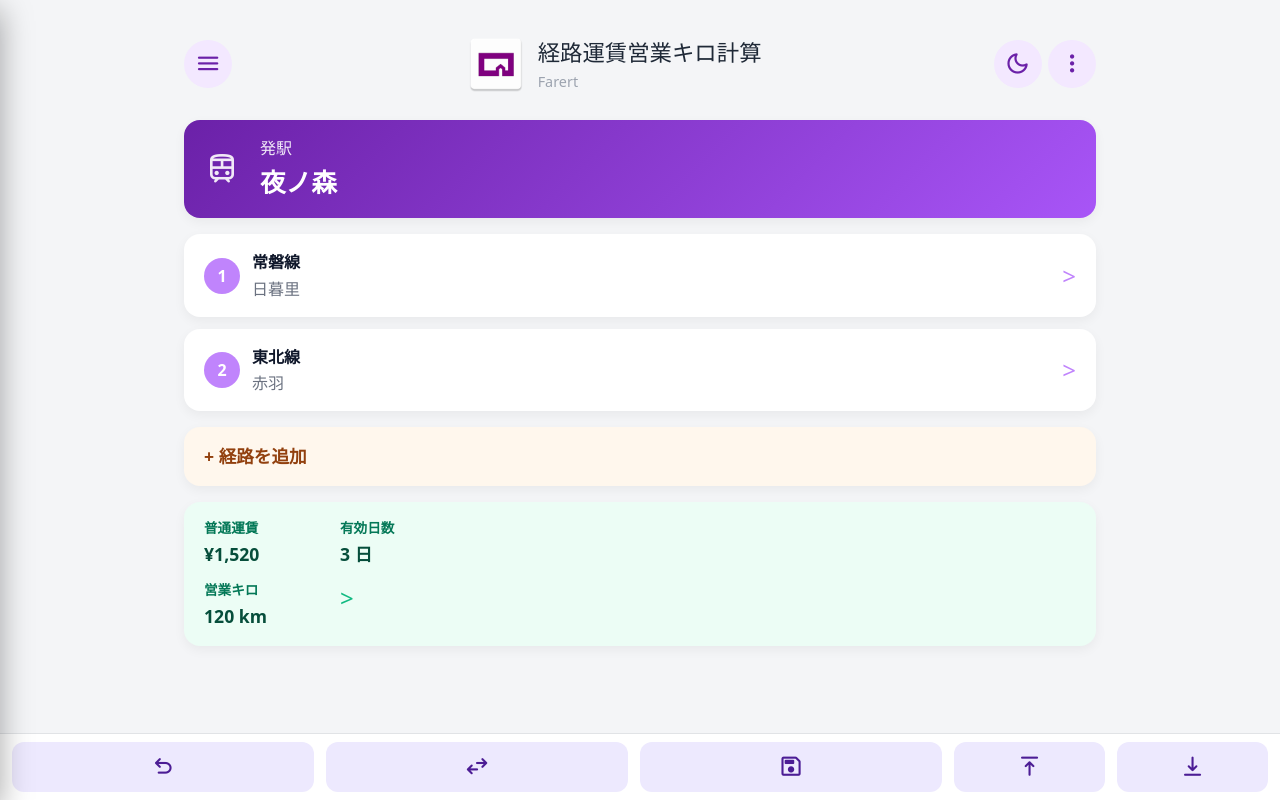
Test: /+page.svelte › treats reverse rc=1 as success
What coordinates should you click on to do the following:
click the button named "反転"
I would click on:
 (477, 767)
Its box is top-left (326, 742), bottom-right (628, 792).
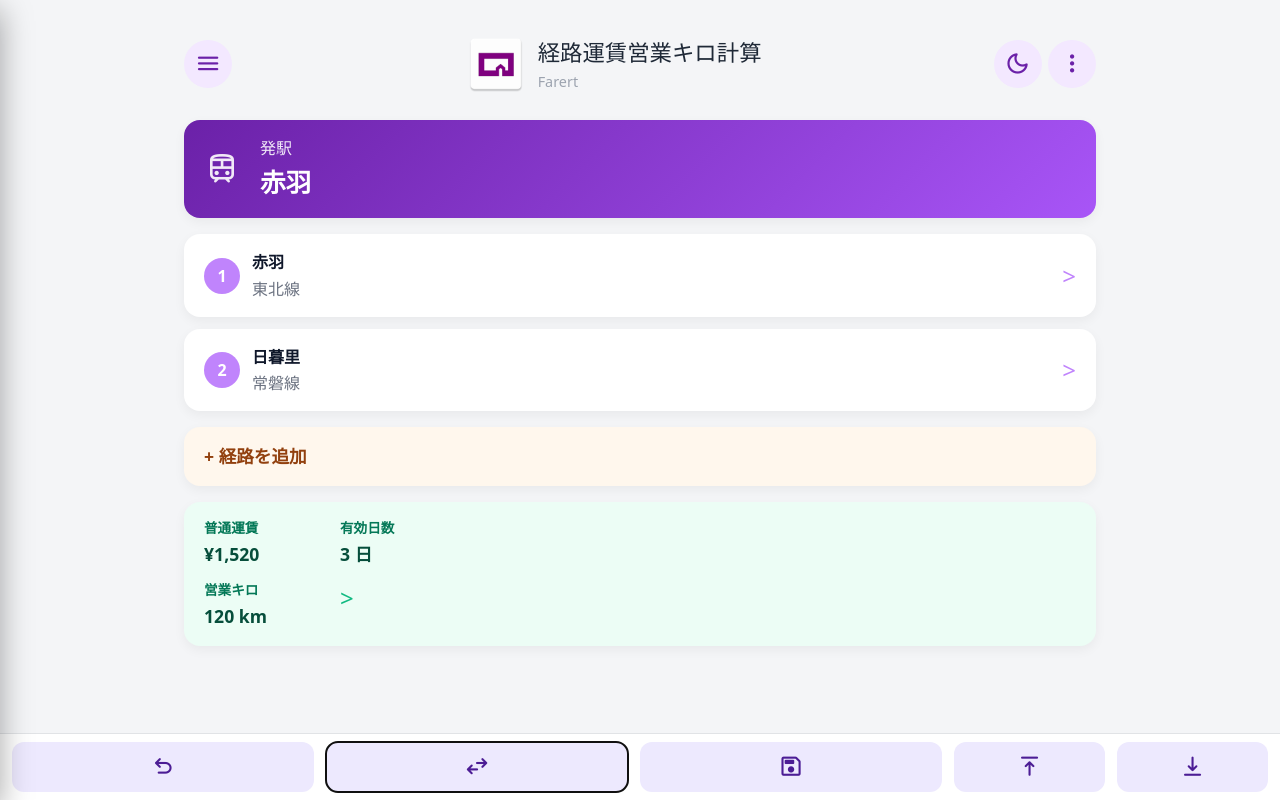
Result: the button "発駅 赤羽" is shown at top-left (204, 136), bottom-right (1083, 202)
